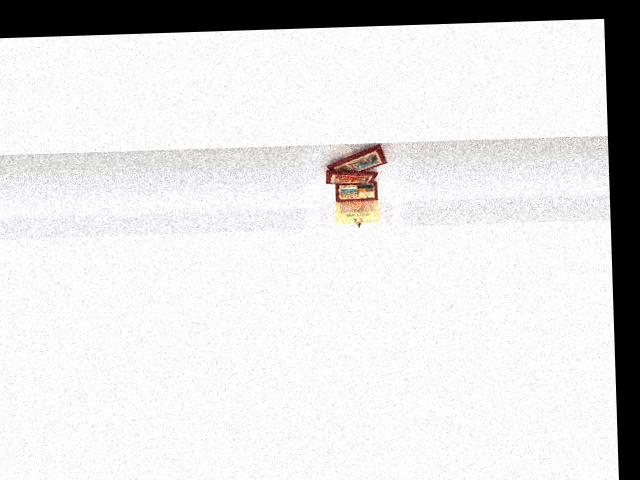chocolate: (322, 139, 399, 176)
